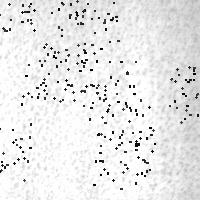pitted_surface: (2, 2, 195, 197), (76, 60, 135, 118), (36, 43, 96, 100), (93, 130, 151, 188), (21, 44, 77, 103), (58, 0, 117, 52), (104, 89, 154, 149), (169, 61, 200, 121), (0, 120, 30, 179), (0, 0, 51, 30)
